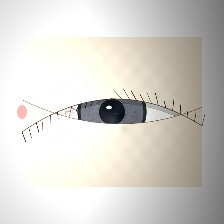pinguecula_lesion: (162, 95, 209, 133)
